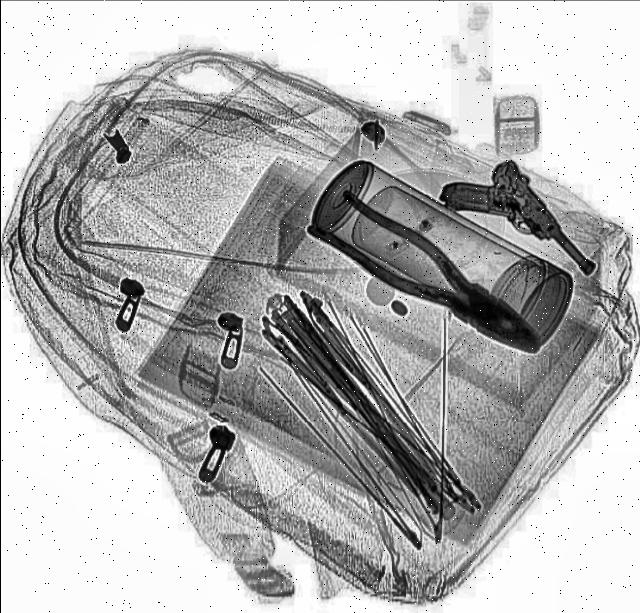Gun: (433, 147, 604, 313)
Pliers: (306, 186, 562, 376)
